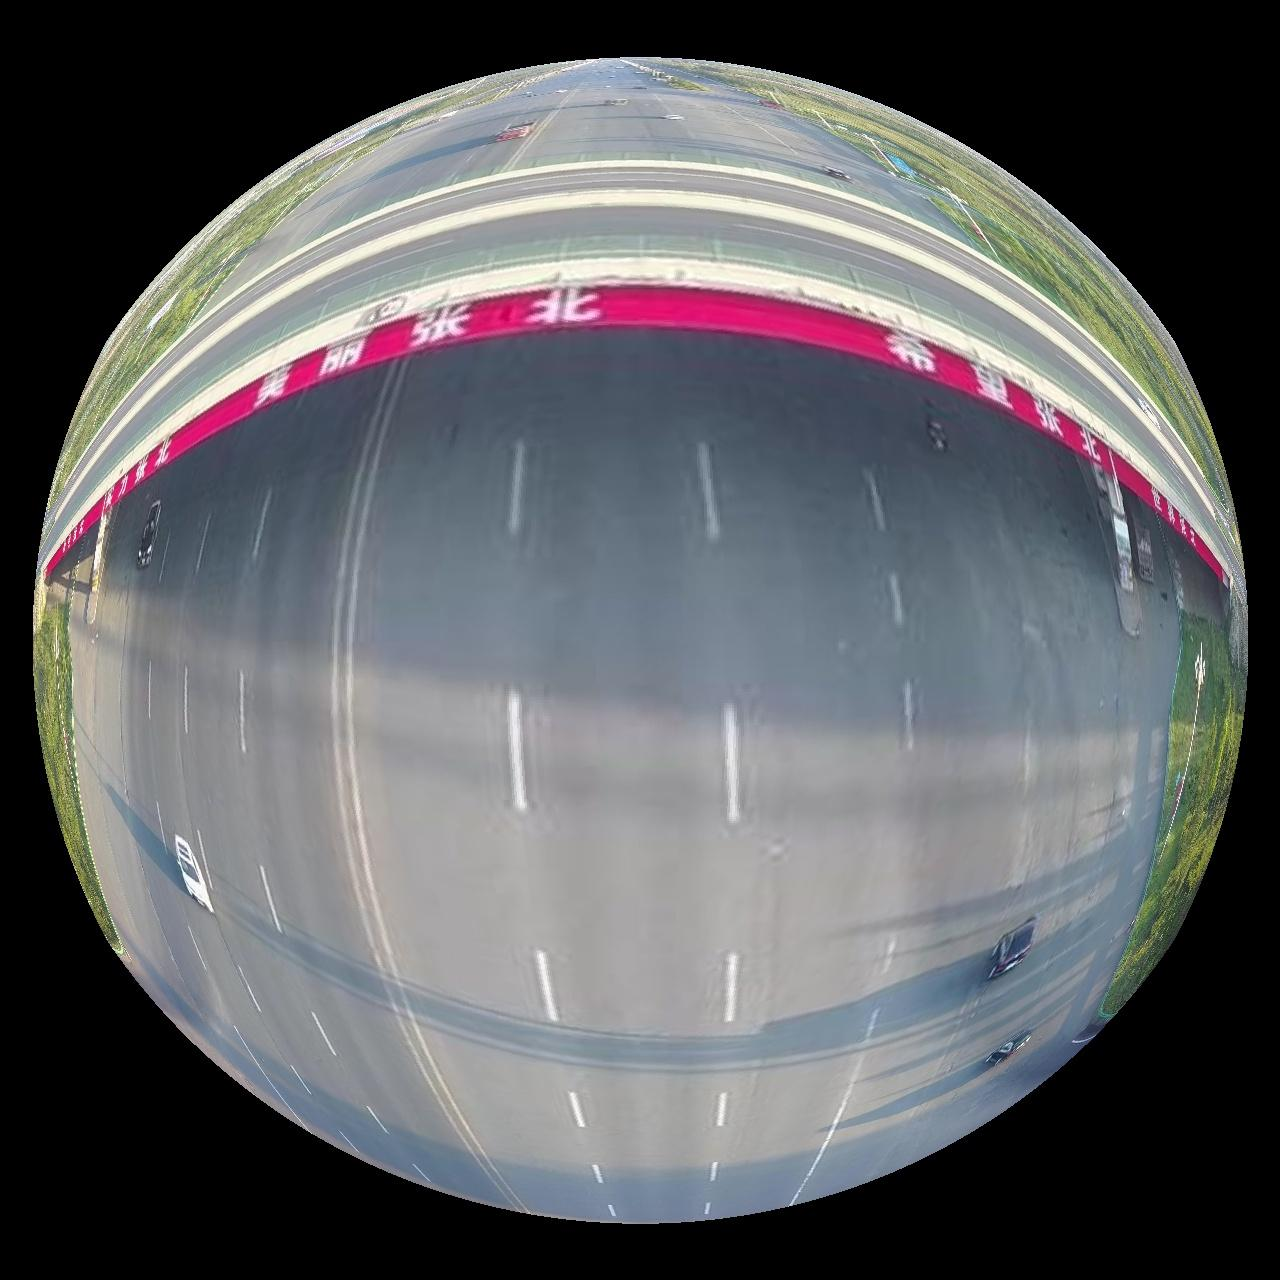cars: (988, 918, 1041, 981), (173, 836, 212, 914), (983, 1032, 1035, 1070), (134, 499, 161, 568)
